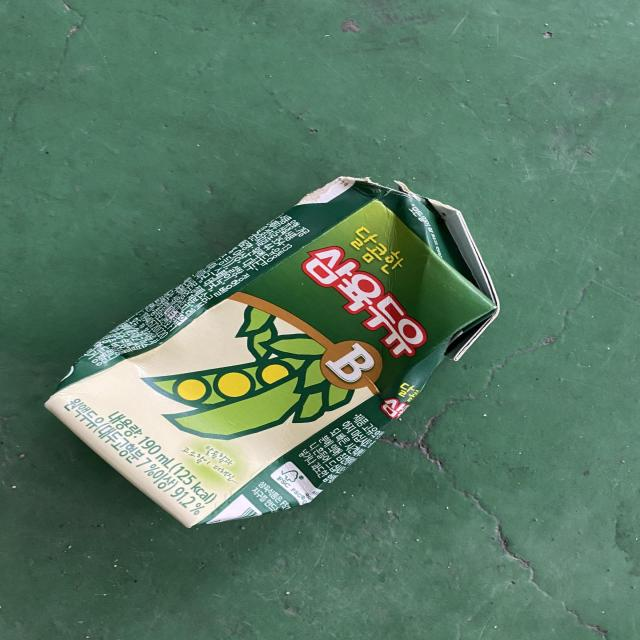paperpack: (44, 177, 500, 528)
